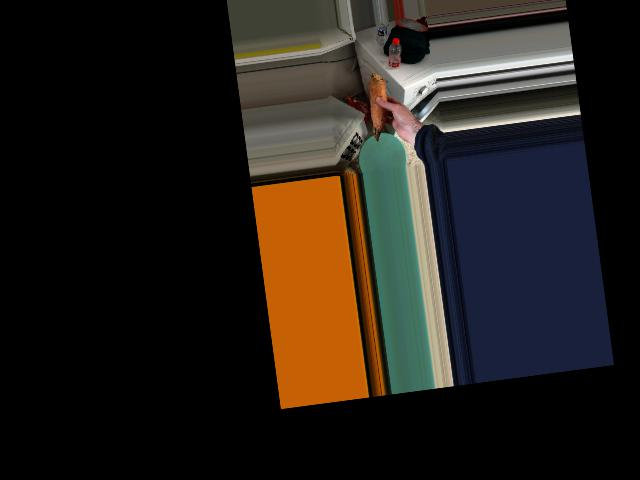sweet_potato: (360, 69, 396, 141)
